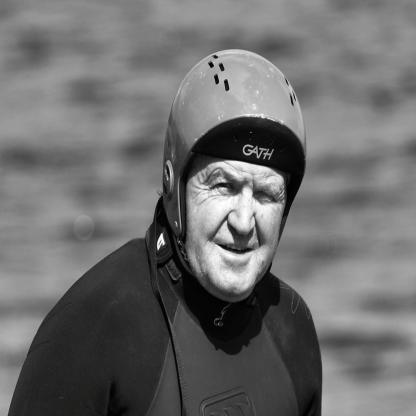Helmet: (157, 53, 302, 279)
